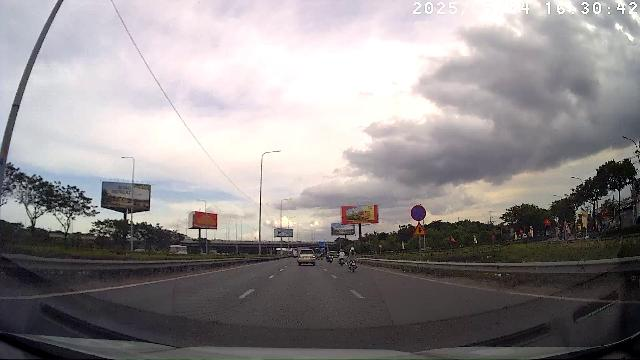130-cam-dung-va-do-xe: (411, 205, 427, 221)
